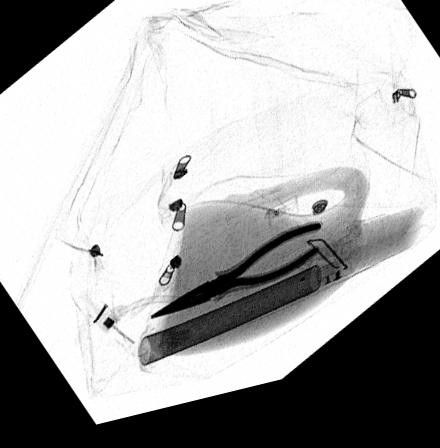Pliers: (148, 235, 322, 326)
